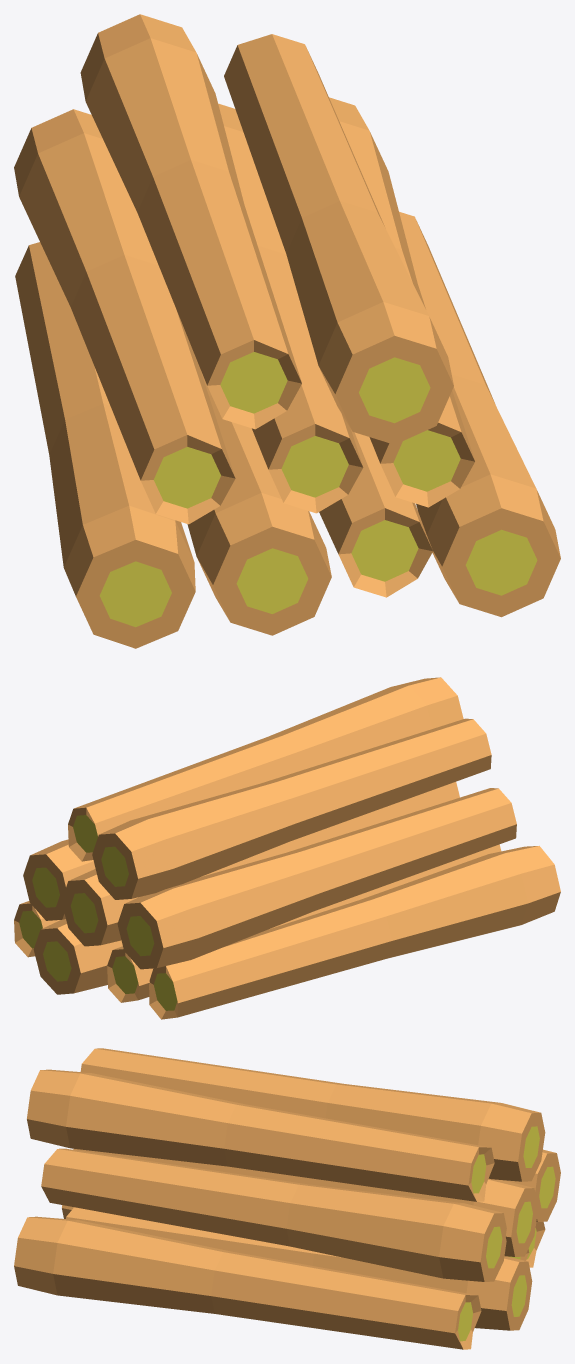
File: palmito_logs.fbx
The picture shows the model from 3 angles, top to bottom: view 1: azimuth 30°, elevation 25°; view 2: azimuth 150°, elevation 25°; view 3: azimuth 270°, elevation 25°; orthographic projection. The views are drawn at different scales.
Parts seen in each view (by area): view 1: Cylinder.026; view 2: Cylinder.026; view 3: Cylinder.026.
Boxes of the visible parts, x1,y1,x2,y2 form: Cylinder.026: (14,14,560,648); Cylinder.026: (14,677,560,1019); Cylinder.026: (14,1048,560,1349).
Bounding box in the file's own units: 216 × 102 × 263.
